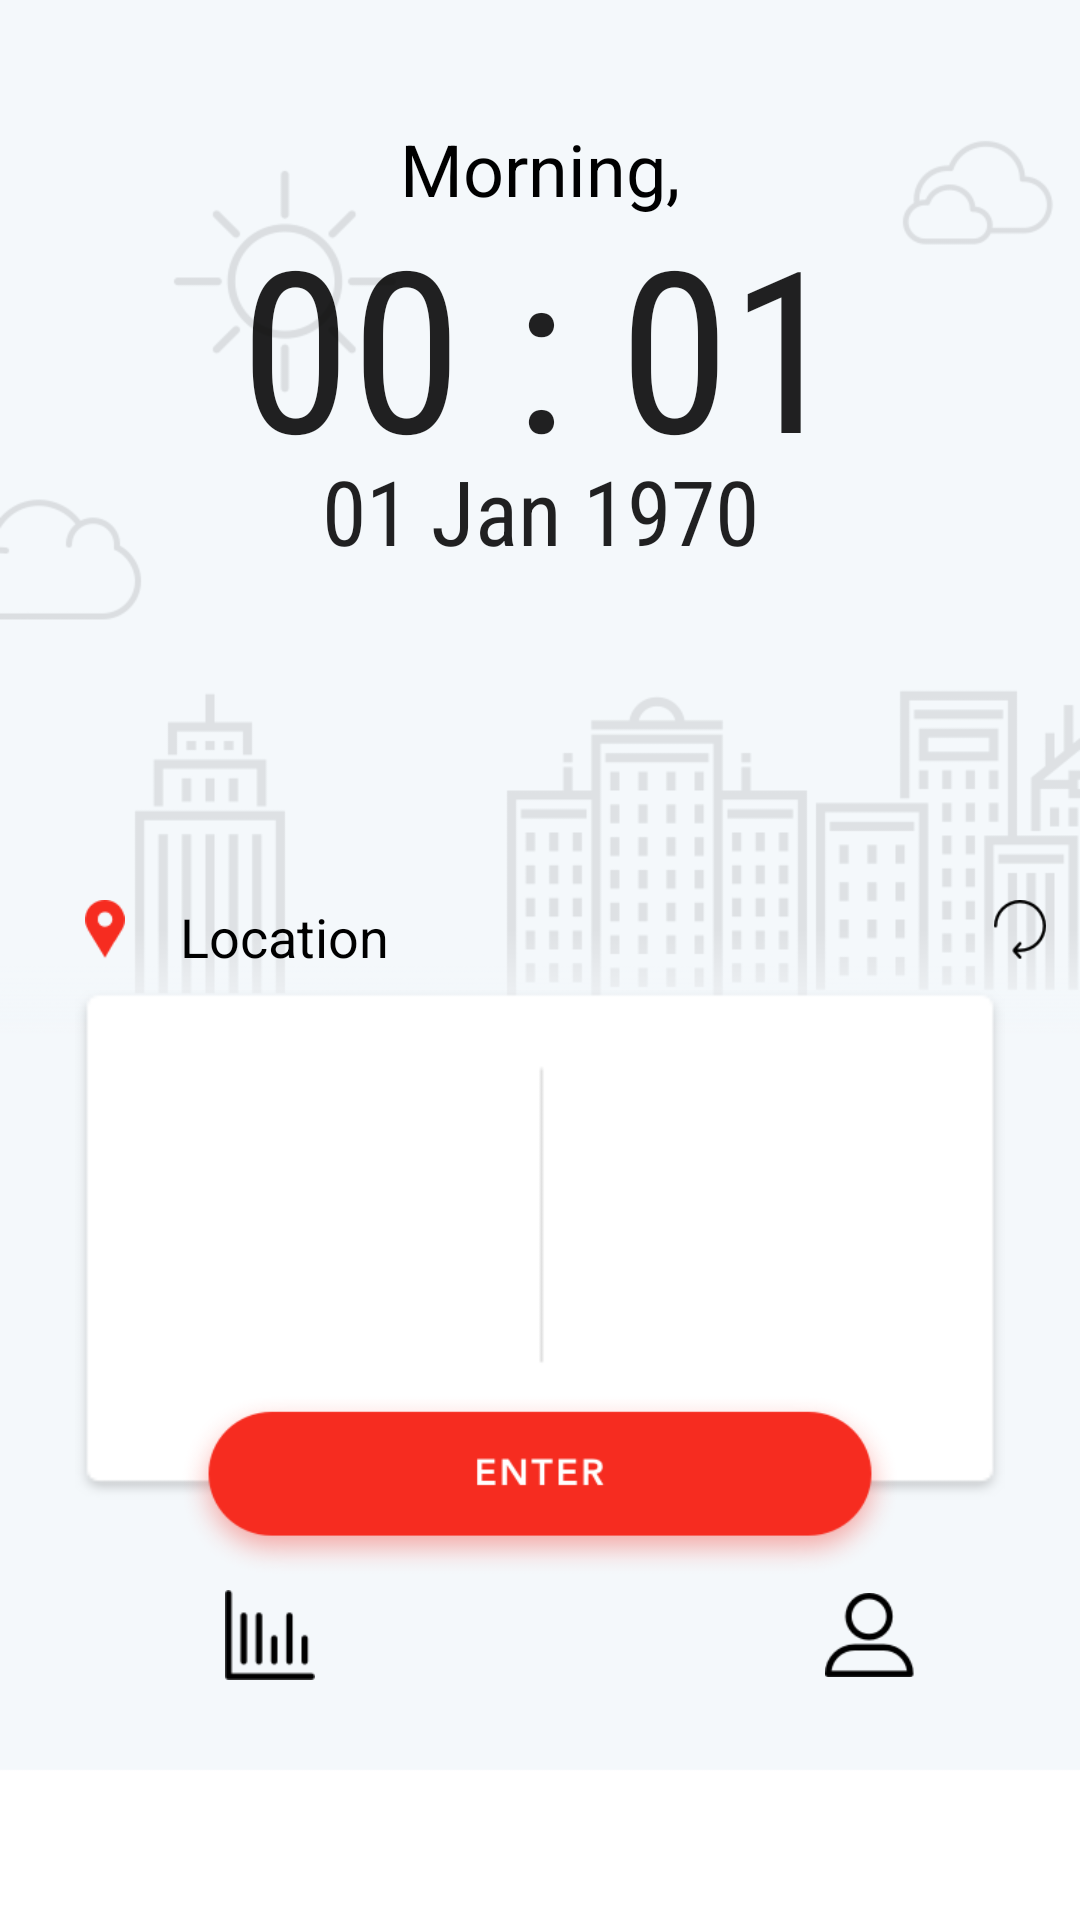

Named icons in this screenshot (1080w x 1920h) and their bounding boxes, (x1, y1, x2, y2):
profile: (825, 1593, 914, 1677)
reload: (992, 900, 1046, 960)
stats: (225, 1590, 315, 1680)
